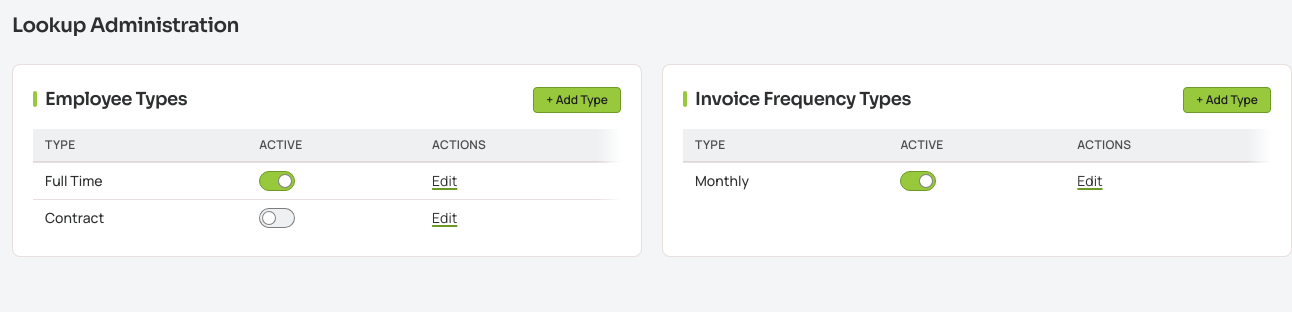
Scenario: LookupAdminPage › reopening an abandoned edit shows the stored name, not the discarded draft
Expected: the cell "Full Time" is shown, [33,163,247,200]
Click the button named "edit full time" at (445, 181), box [432,171,457,191]
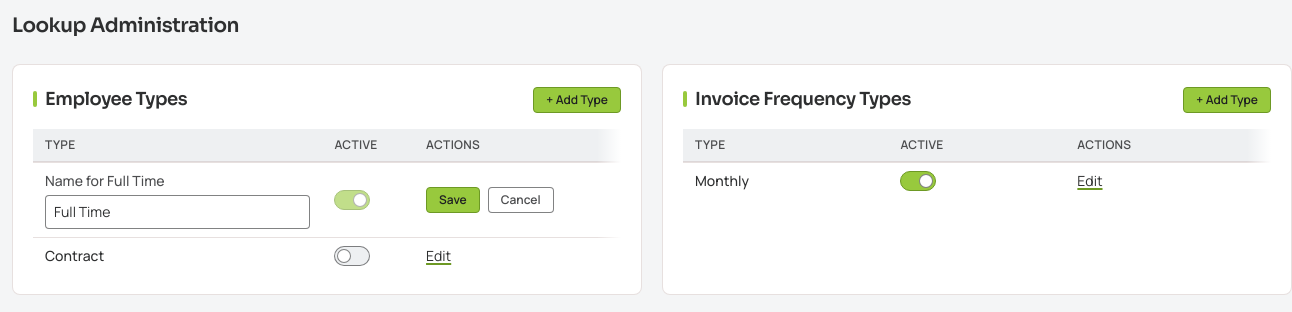
Type "Discarded" into the field labelled "Name for Full Time" at (178, 212), box [45,195,310,229]
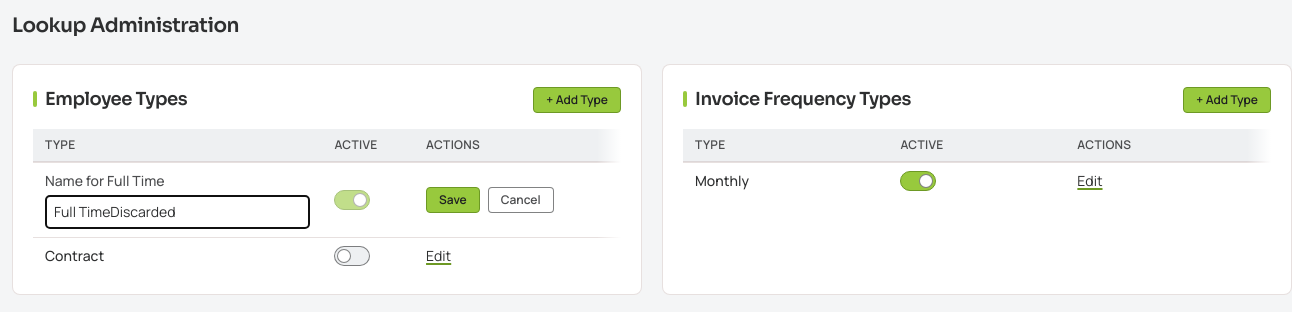
Click the button named "cancel editing full time" at (521, 200), box [488,187,554,213]
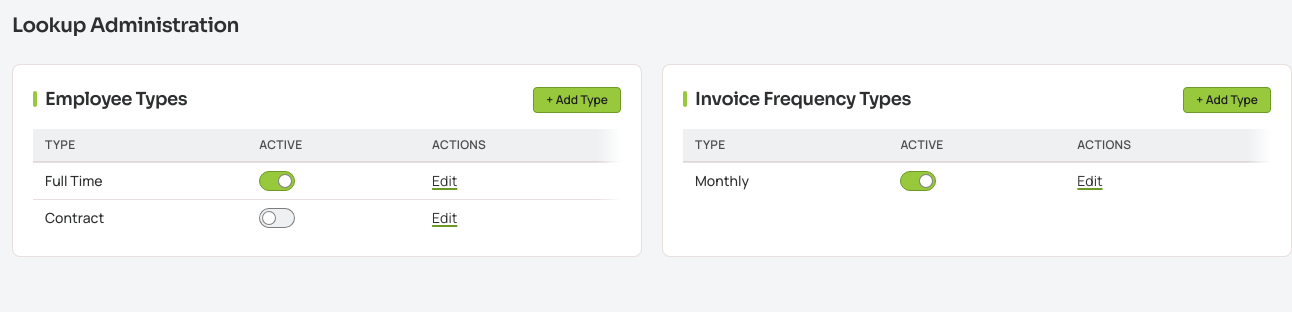
Click the button named "edit full time" at (445, 181), box [432,171,457,191]
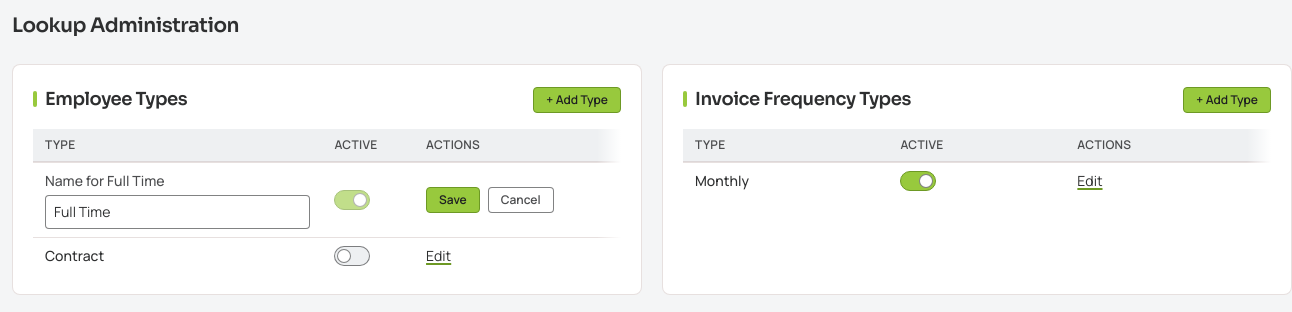
Expected: the field labelled "Name for Full Time" holds "Full Time", [45,195,310,229]
